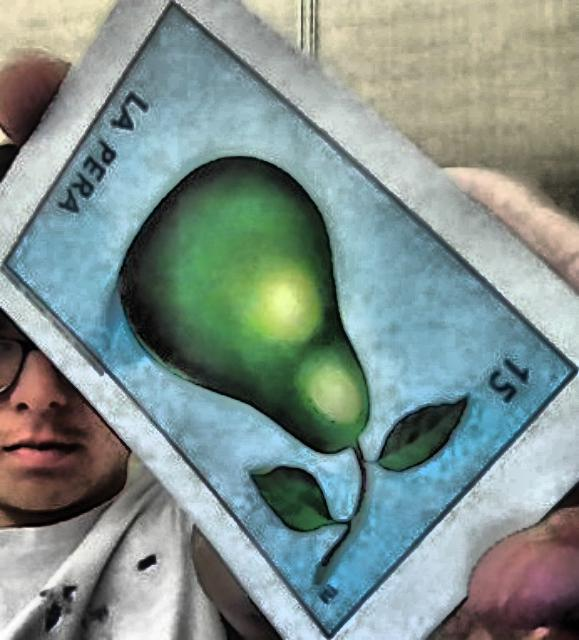La Pera: (8, 3, 576, 632)
